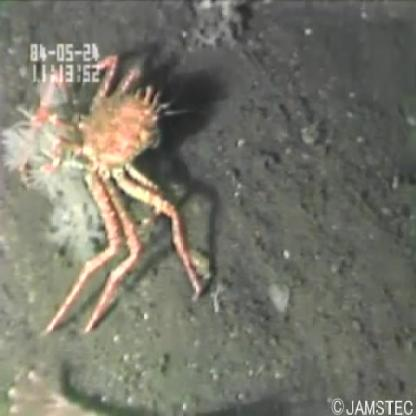Bio: (1, 48, 209, 344)
